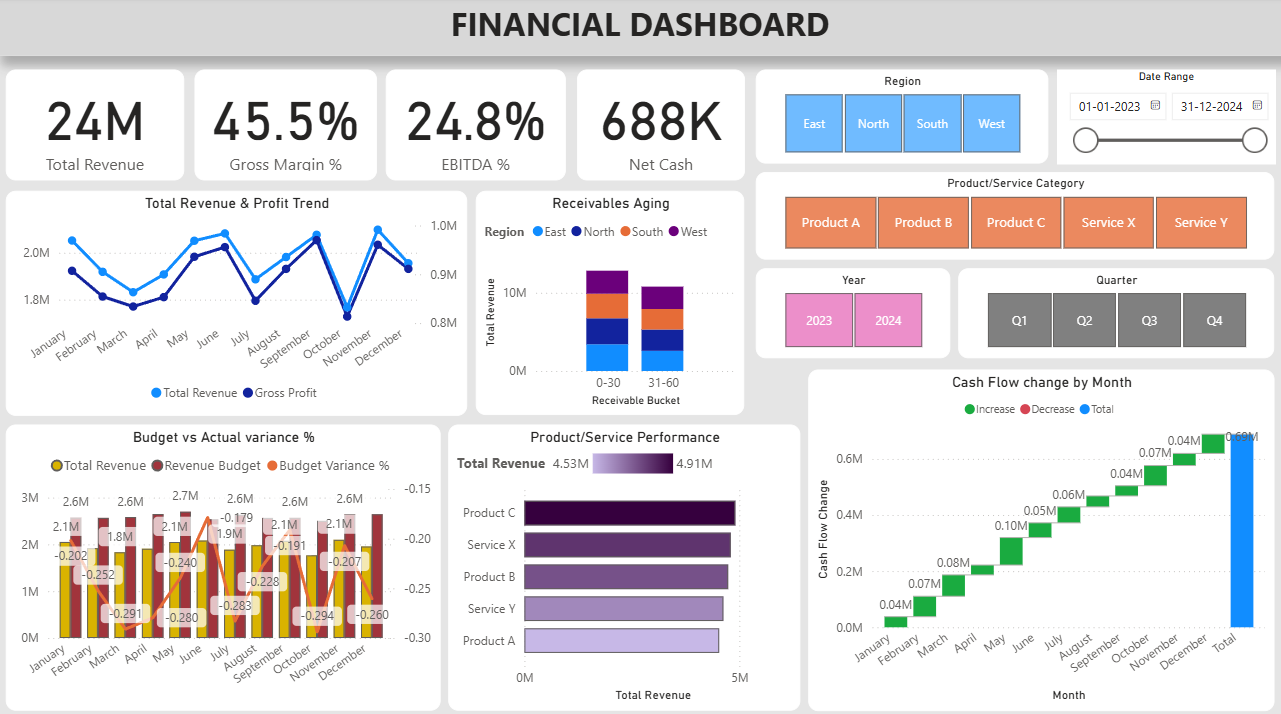

Layout of this report page (visuals, bound fields, positions):
{"tool":"powerbi","page":{"name":"Page 1","canvas":[1280,720],"ordinal":0},"visuals":[{"type":"textbox","box":[0,0,1280,58.5],"z":0},{"type":"card","fields":{"Values":["FinancialDashboardProject.Total Revenue_M"]},"box":[9.1,72.7,177.9,110.4],"z":1000},{"type":"card","fields":{"Values":["FinancialDashboardProject.Gross Margin %_M"]},"box":[196.1,72.7,181.8,110.4],"z":2000},{"type":"card","fields":{"Values":["FinancialDashboardProject.EBITDA %_M"]},"box":[387,72.7,179.2,110.4],"z":3000},{"type":"card","fields":{"Values":["FinancialDashboardProject.Net Cash_M"]},"box":[576.6,72.7,167.5,110.4],"z":4000},{"type":"slicer","title":"Year","fields":{"Values":["DimDate.Year"]},"box":[754.5,270.1,193.5,89.6],"z":5000},{"type":"slicer","title":"Region","fields":{"Values":["FinancialDashboardProject.Region"]},"box":[755.1,72.1,291.1,93.3],"z":6000},{"type":"slicer","title":"Product/Service Category","fields":{"Values":["FinancialDashboardProject.Product/Service"]},"box":[755.1,174.2,516.2,87.1],"z":7000},{"type":"slicer","title":"Quarter","fields":{"Values":["DimDate.Quarter"]},"box":[957.1,270.1,314.3,89.6],"z":8000},{"type":"lineChart","title":"Total Revenue & Profit Trend","fields":{"Y":["FinancialDashboardProject.Total Revenue_M"],"Category":["DimDate.Month Name","DimDate.Date","DimDate.Quarter","DimDate.Year"],"Y2":["FinancialDashboardProject.Gross Profit_M"]},"box":[8.7,192.8,459,223.9],"z":9000},{"type":"lineClusteredColumnComboChart","title":"Budget vs Actual variance %","fields":{"Category":["DimDate.Month Name"],"Y":["FinancialDashboardProject.Total Revenue_M","FinancialDashboardProject.Revenue Budget_M"],"Y2":["FinancialDashboardProject.Budget Variance %_M"]},"box":[9.1,426,432.5,284.4],"z":10000},{"type":"barChart","title":"Product/Service Performance","fields":{"Y":["FinancialDashboardProject.Total Revenue_M"],"Category":["FinancialDashboardProject.Product/Service"]},"box":[449.4,426,350.6,284.4],"z":11000},{"type":"columnChart","title":"Receivables Aging","fields":{"Category":["FinancialDashboardProject.Receivable Bucket"],"Series":["FinancialDashboardProject.Region"],"Y":["FinancialDashboardProject.Total Revenue_M"]},"box":[476.6,192.2,267.5,223.4],"z":12000},{"type":"waterfallChart","title":"Cash Flow change by Month","fields":{"Category":["DimDate.Month Name"],"Y":["FinancialDashboardProject.Cash Flow Change"]},"box":[807.3,370.7,464,339.6],"z":13000},{"type":"slicer","title":"Date Range","fields":{"Values":["DimDate.Date"]},"box":[1054.9,72.1,217.7,93.3],"z":14000}]}

Visuals, with their boxes in screenshot pixels (x1, y1, x2, y2), scaled from the page's 1280x720 canvas onto the 1281x714 screenshot:
textbox: <box>0,0,1280,58</box>
card - FinancialDashboardProject.Total Revenue_M: <box>9,72,187,182</box>
card - FinancialDashboardProject.Gross Margin %_M: <box>196,72,378,182</box>
card - FinancialDashboardProject.EBITDA %_M: <box>387,72,567,182</box>
card - FinancialDashboardProject.Net Cash_M: <box>577,72,745,182</box>
"Year" slicer: <box>755,268,949,357</box>
"Region" slicer: <box>756,71,1047,164</box>
"Product/Service Category" slicer: <box>756,173,1272,259</box>
"Quarter" slicer: <box>958,268,1272,357</box>
"Total Revenue & Profit Trend" lineChart: <box>9,191,468,413</box>
"Budget vs Actual variance %" lineClusteredColumnComboChart: <box>9,422,442,704</box>
"Product/Service Performance" barChart: <box>450,422,801,704</box>
"Receivables Aging" columnChart: <box>477,191,745,412</box>
"Cash Flow change by Month" waterfallChart: <box>808,368,1272,704</box>
"Date Range" slicer: <box>1056,71,1274,164</box>
